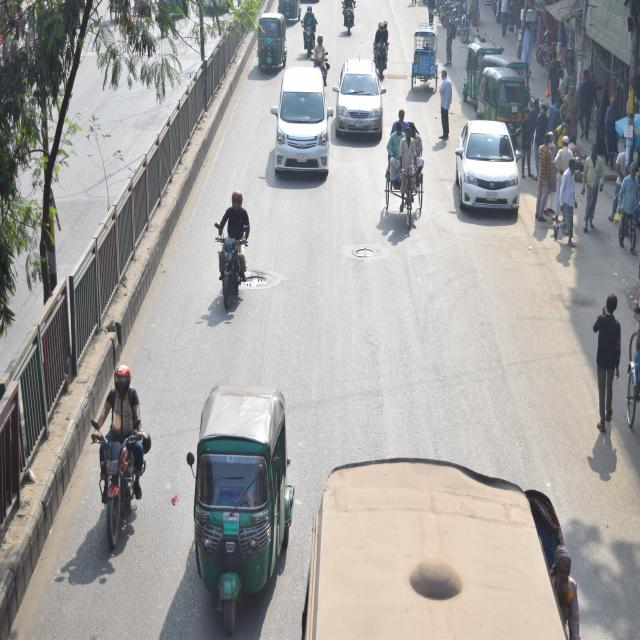bus: (304, 444, 591, 640)
car: (270, 60, 336, 179), (454, 122, 524, 214), (334, 55, 384, 140)
motorbike: (84, 396, 157, 552), (207, 210, 254, 322), (366, 28, 392, 72), (451, 0, 473, 41), (295, 11, 315, 51)
